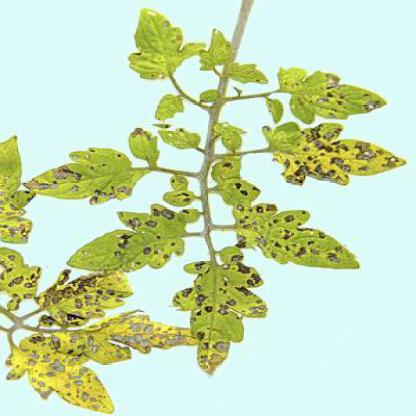Tomato Septoria leaf spot: (1, 301, 216, 415), (14, 127, 175, 226), (173, 242, 276, 392), (61, 196, 200, 295), (257, 121, 415, 189), (226, 198, 373, 271), (270, 59, 415, 127), (21, 272, 139, 339), (118, 10, 208, 95)
